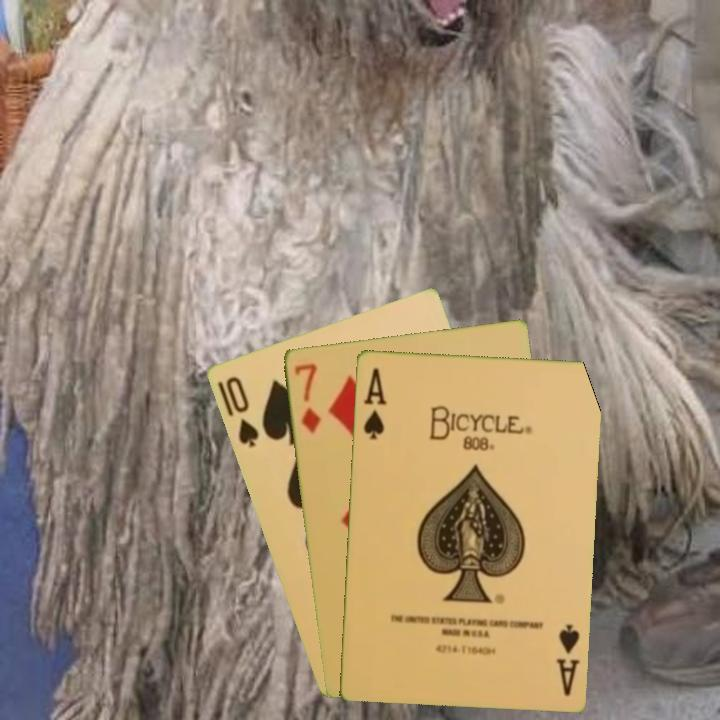10s: (221, 373, 261, 450)
7d: (290, 359, 324, 436)
As: (552, 620, 582, 699), (359, 364, 389, 442)
